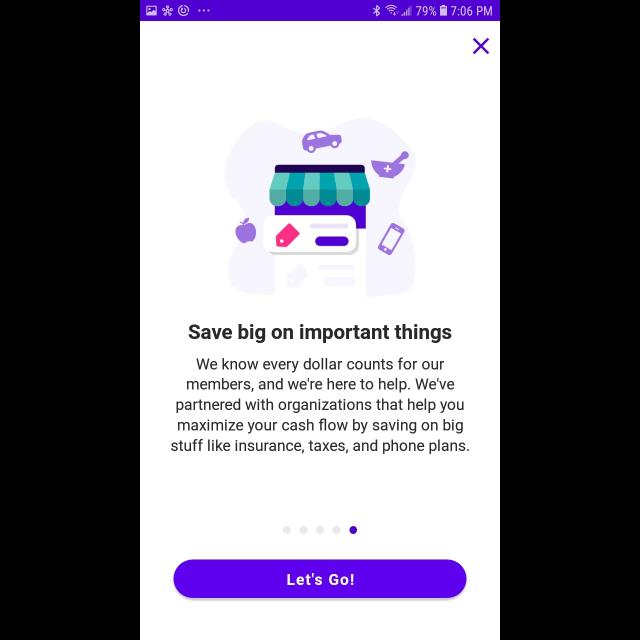icon: (473, 37, 489, 54)
image: (224, 119, 416, 298)
pageindicator: (283, 526, 357, 534)
text: (171, 357, 469, 455), (188, 324, 452, 344)
textbutton: (174, 560, 466, 598)
uppertaskbar: (140, 1, 500, 22)
